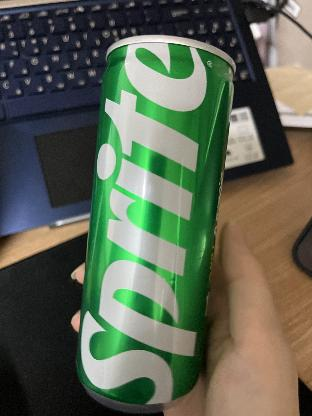Can: (73, 35, 236, 414)
